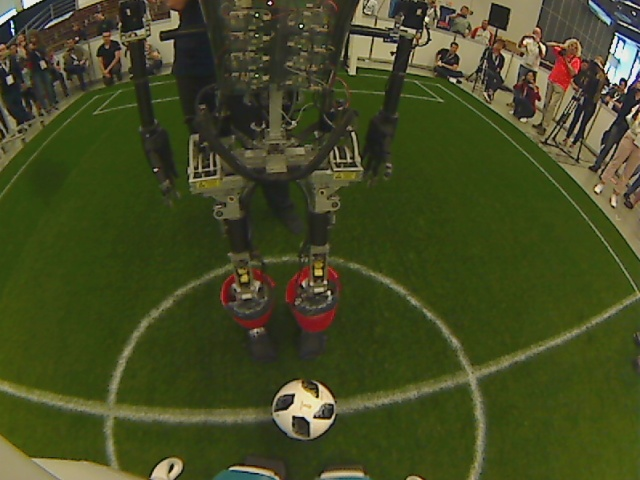ball: (271, 375, 340, 444)
